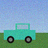vehicle: (4, 24, 35, 43)
